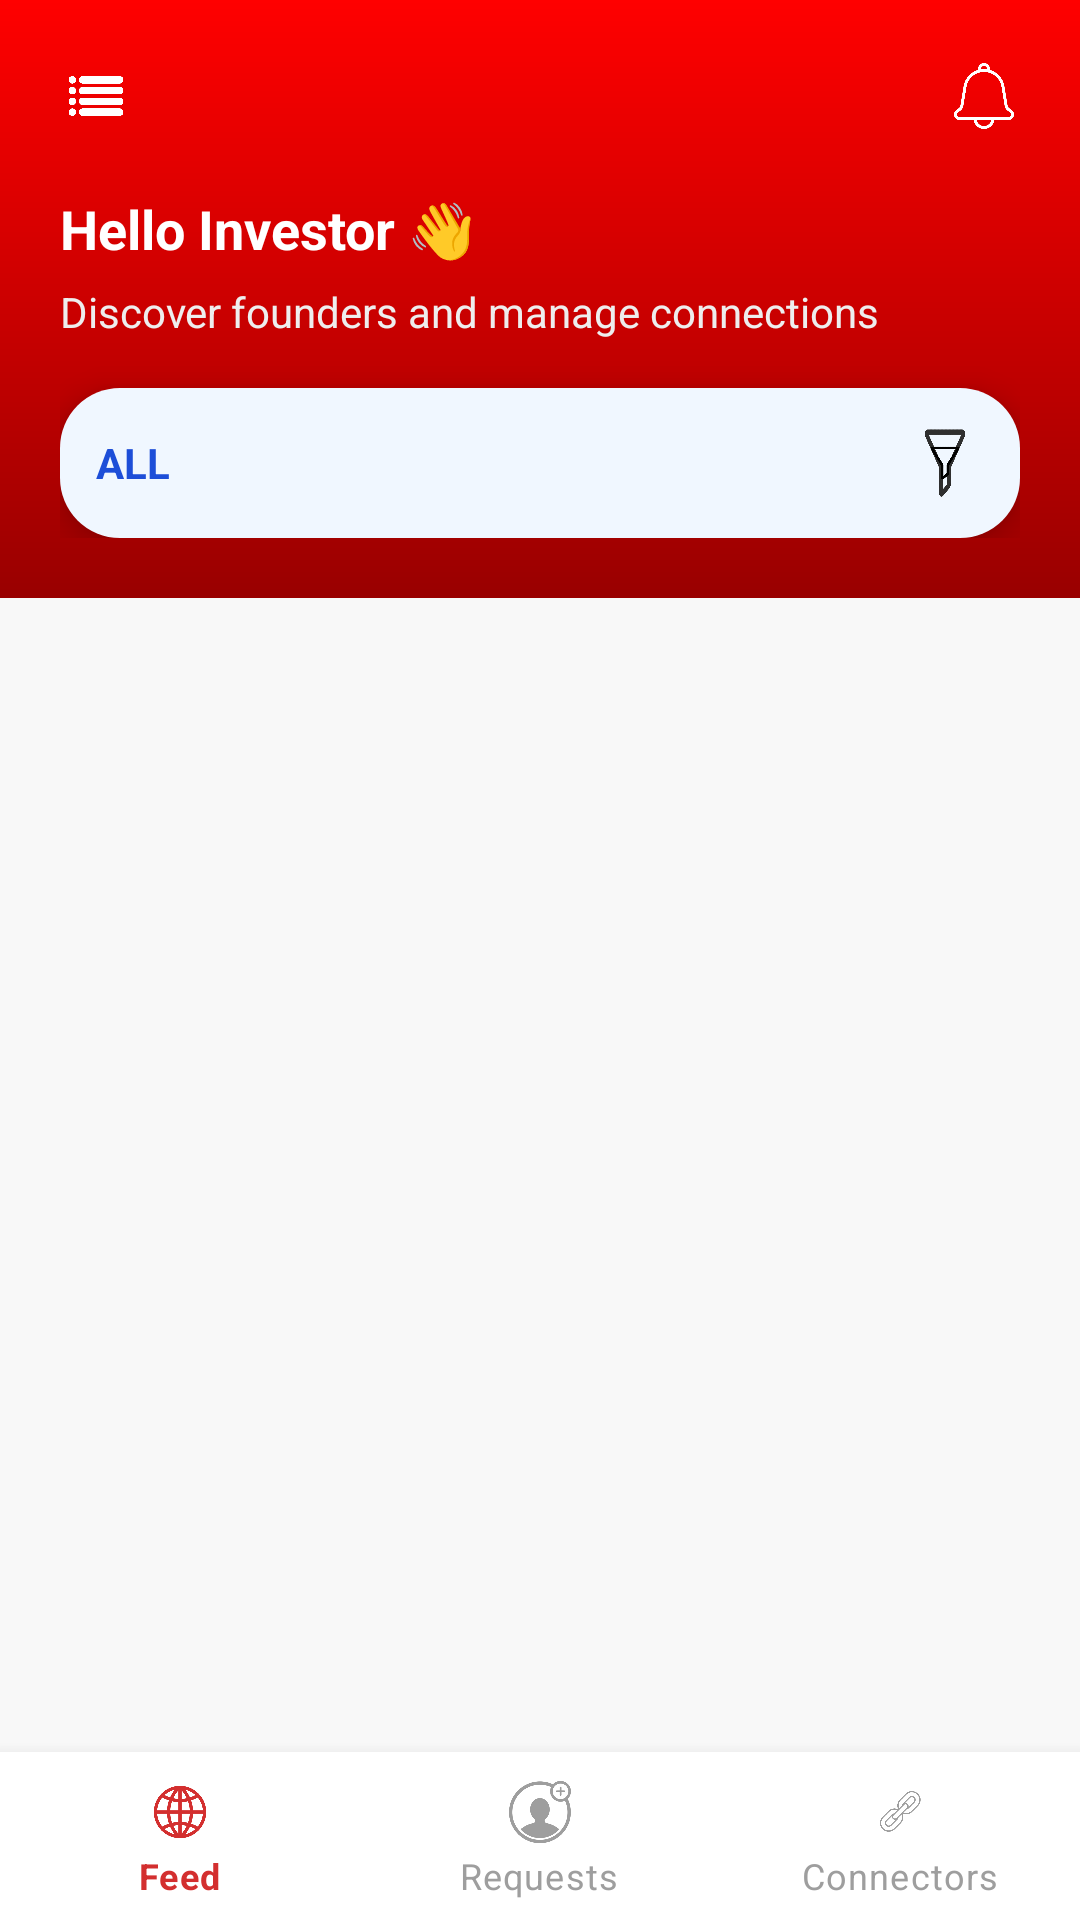

Screen size 1080w x 1920h. Icon name, then its box in pixels as BBox(x1, y1, x2, y2):
filter: BBox(925, 429, 965, 497)
menu: BBox(69, 76, 123, 116)
notification: BBox(954, 63, 1014, 129)
